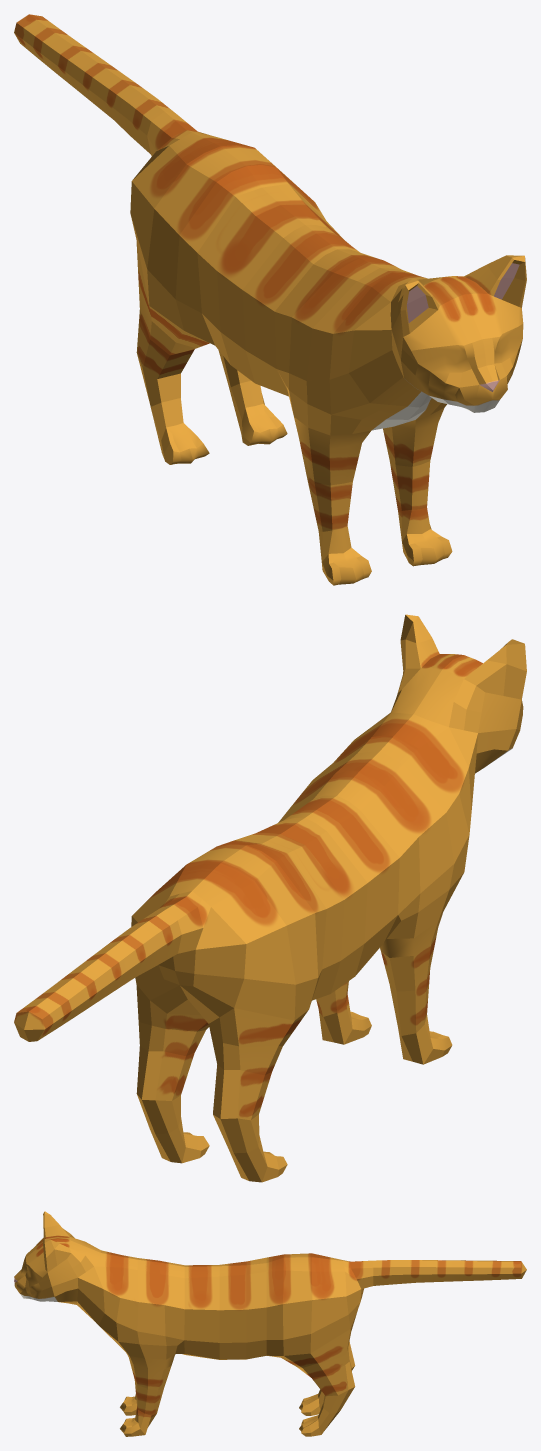
The model's file is 601cat.fbx.
The picture shows the model from 3 angles, top to bottom: view 1: azimuth 30°, elevation 25°; view 2: azimuth 150°, elevation 25°; view 3: azimuth 270°, elevation 25°; orthographic projection. The views are drawn at different scales.
Visible parts, largest first — view 1: Body; view 2: Body; view 3: Body.
Boxes of the visible parts, x1=… form: Body: x1=14, y1=14, x2=526, y2=585; Body: x1=14, y1=614, x2=526, y2=1182; Body: x1=14, y1=1211, x2=526, y2=1436.
Bounding box in the file's own units: 122 × 281 × 668.
